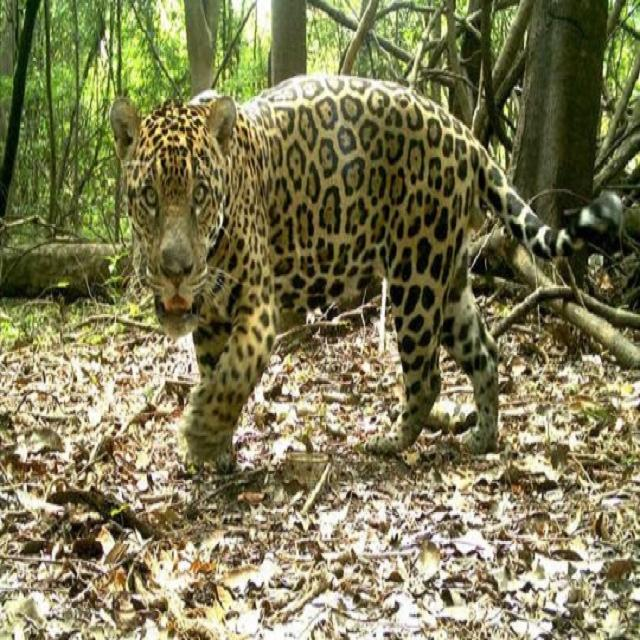Jaguar: (107, 68, 625, 474)
